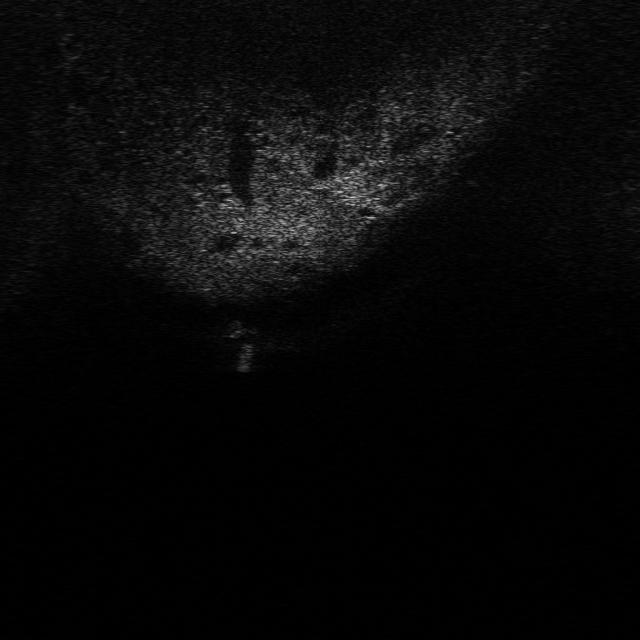cylinder: (234, 341, 257, 373)
